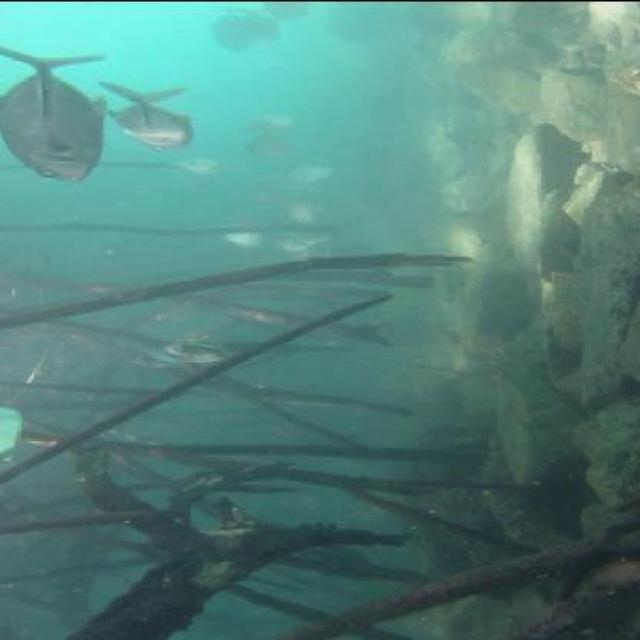Caranx_sexfasciatus_juvenile: (2, 46, 107, 186), (102, 81, 202, 148), (142, 328, 245, 370), (238, 127, 314, 162), (224, 6, 282, 48), (204, 3, 250, 51), (272, 223, 336, 257), (223, 213, 271, 247), (121, 348, 192, 370), (282, 193, 328, 225), (257, 0, 318, 23), (289, 159, 337, 186), (246, 178, 289, 208), (173, 152, 230, 174), (257, 112, 303, 131)
